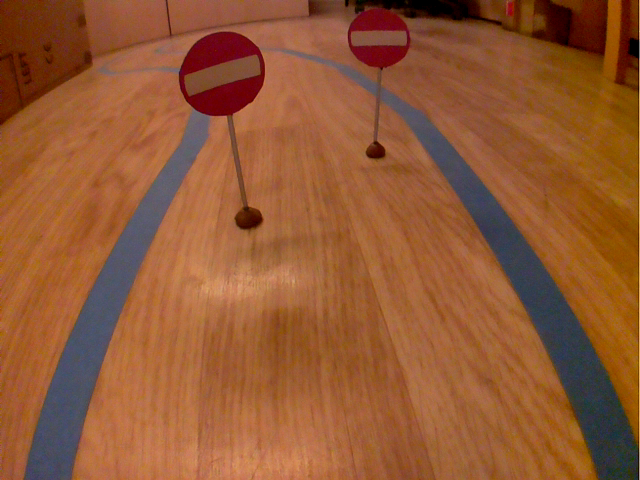Zakaz: (174, 26, 269, 122), (345, 4, 415, 71)
